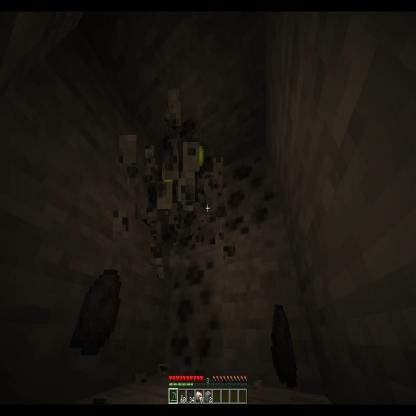coal ore: (165, 245, 221, 376), (222, 139, 275, 245)
